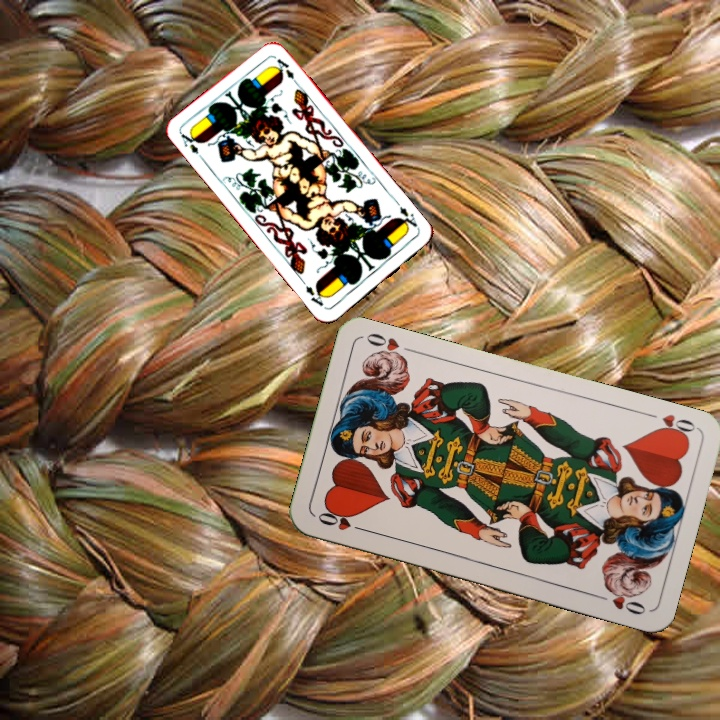EA: (176, 128, 207, 164), (392, 197, 420, 233)
HO: (641, 408, 698, 442), (313, 508, 370, 535)
